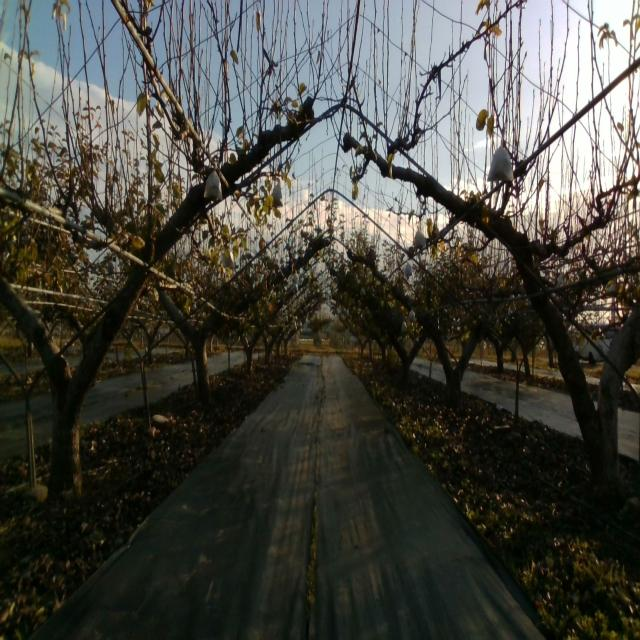pearbags: (486, 136, 514, 183), (204, 168, 224, 202), (221, 248, 236, 271), (271, 182, 283, 210), (414, 225, 427, 249)
